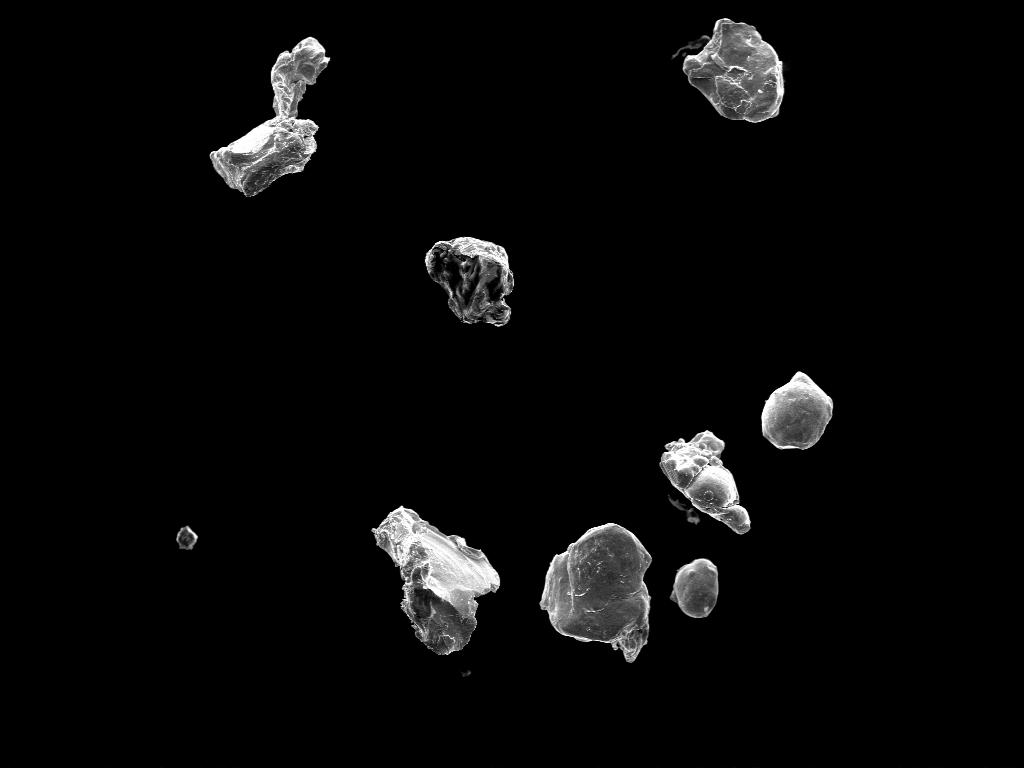Powder: (210, 38, 328, 196), (375, 508, 499, 654), (540, 524, 652, 662), (674, 18, 784, 121), (660, 432, 750, 534), (426, 238, 514, 326), (762, 372, 834, 449), (670, 558, 718, 618), (176, 526, 198, 550)
